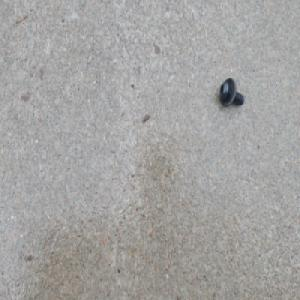BoltWasher: (218, 77, 245, 109)
